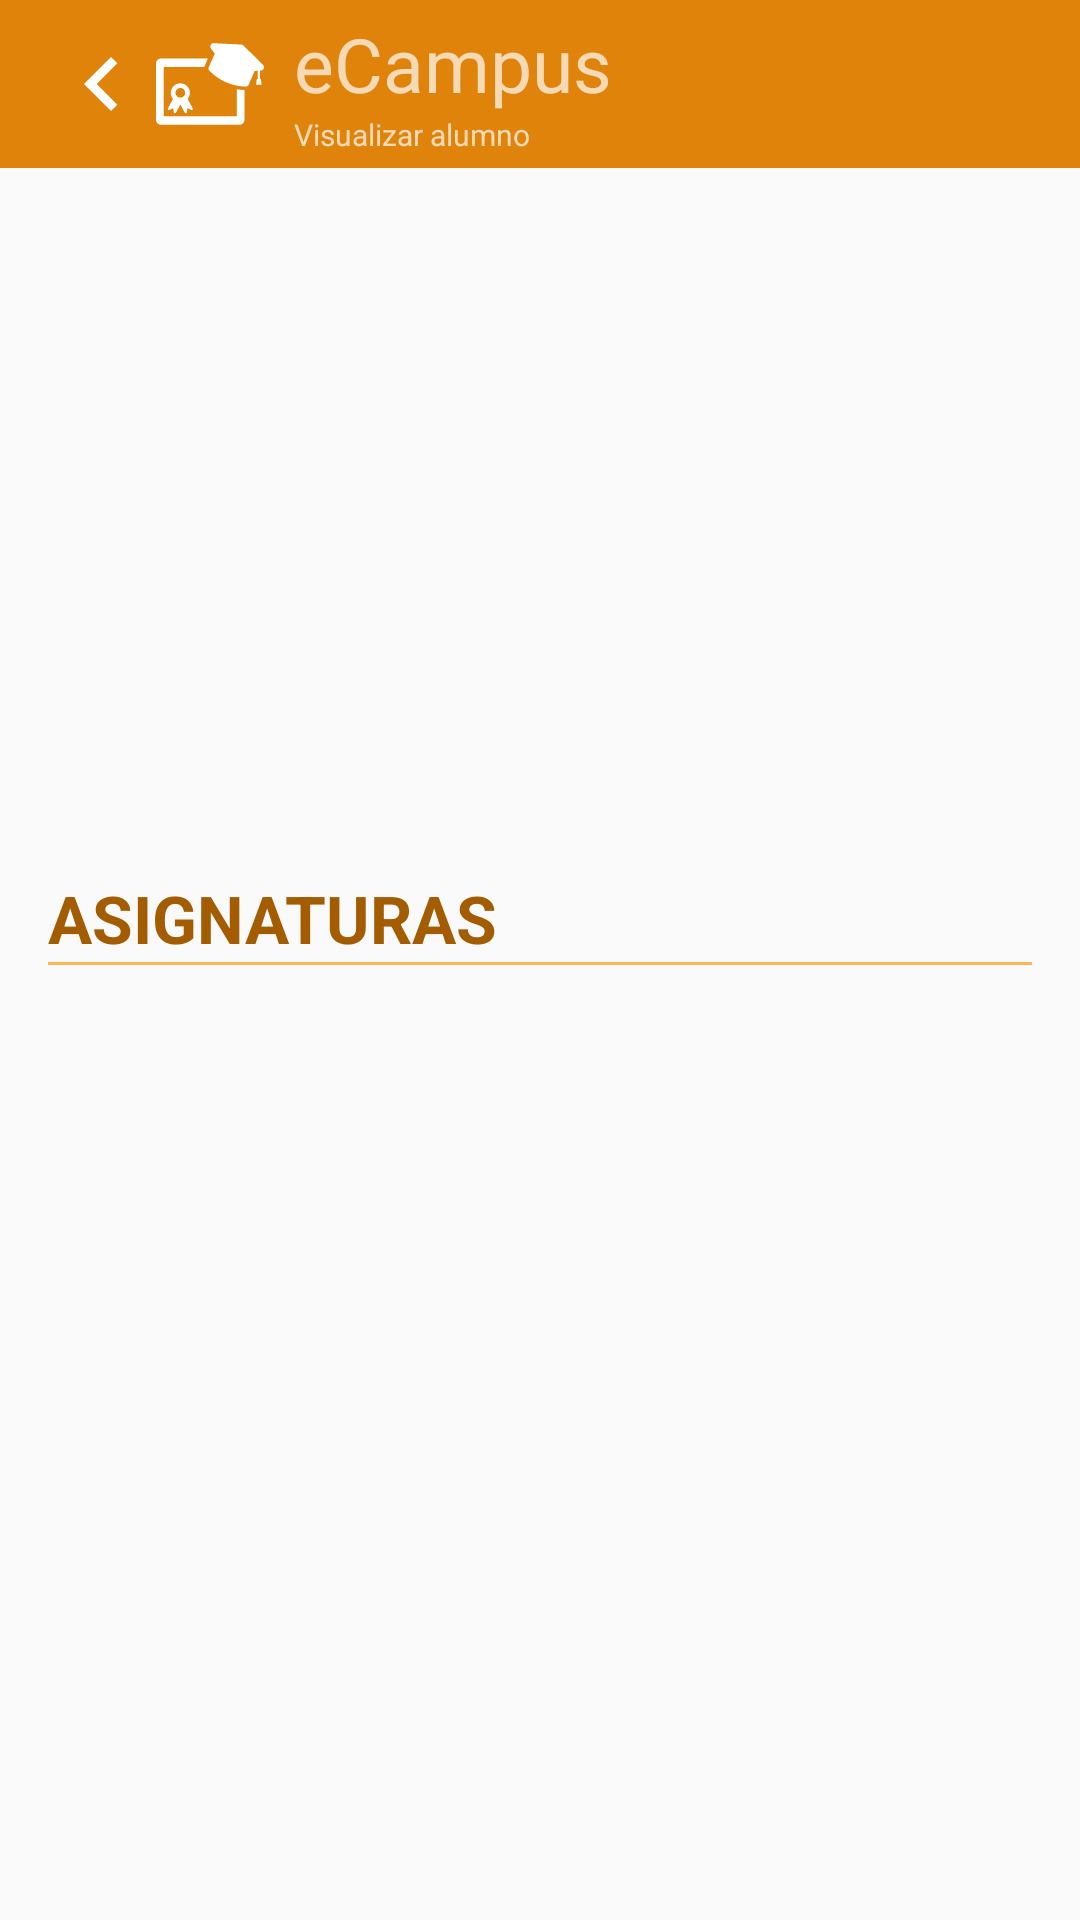

Named icons in this screenshot (1080px×1920px) and their centers, point (x, y):
back toolbar: point (101, 84)
